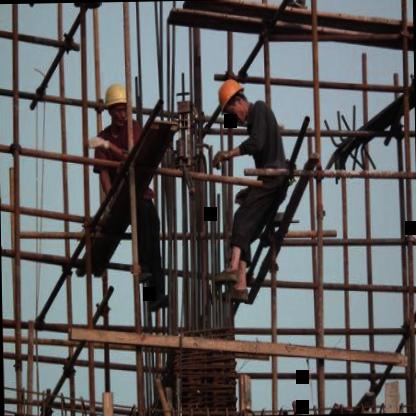helmet: (213, 74, 251, 122), (98, 79, 133, 131)
